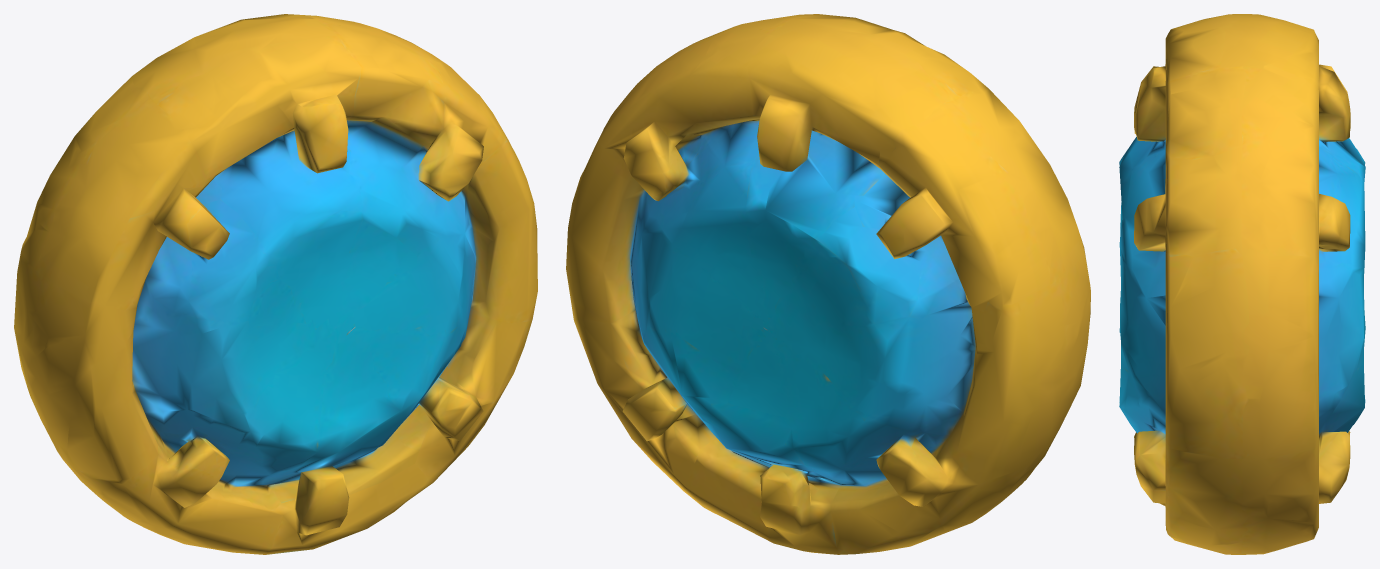
Rendered from gem_support-BL2o5DwD.glb.
3 views of the same model, side by side, from view 1: azimuth 30°, elevation 25°; view 2: azimuth 150°, elevation 25°; view 3: azimuth 270°, elevation 25° (orthographic). The views are drawn at different scales.
Visible parts, largest first — view 1: tripo_node_7333eb3b-fd9b-4e6d-9688-daa554a2efc3; view 2: tripo_node_7333eb3b-fd9b-4e6d-9688-daa554a2efc3; view 3: tripo_node_7333eb3b-fd9b-4e6d-9688-daa554a2efc3.
Part boxes in pixels (x1,y1,x2,y2): tripo_node_7333eb3b-fd9b-4e6d-9688-daa554a2efc3: (14, 14, 537, 554); tripo_node_7333eb3b-fd9b-4e6d-9688-daa554a2efc3: (566, 14, 1090, 554); tripo_node_7333eb3b-fd9b-4e6d-9688-daa554a2efc3: (1119, 14, 1365, 554).
Bounding box in the file's own units: 1 × 0.9987 × 0.4539.
1 material, 1 textured.
